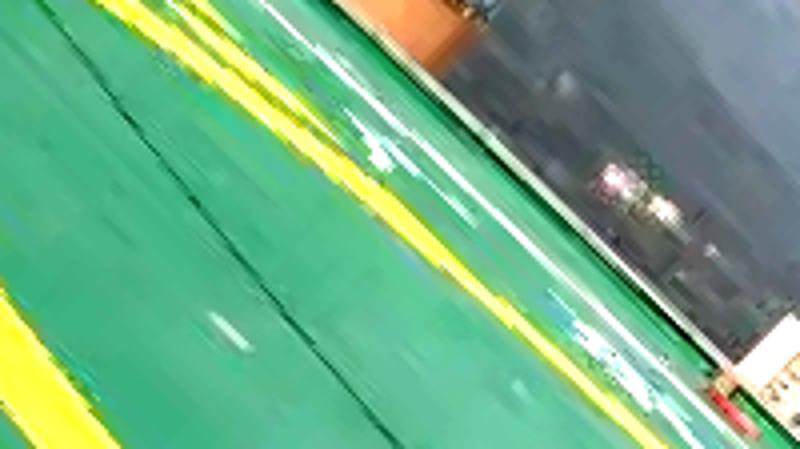Apron: (1, 1, 699, 448)
